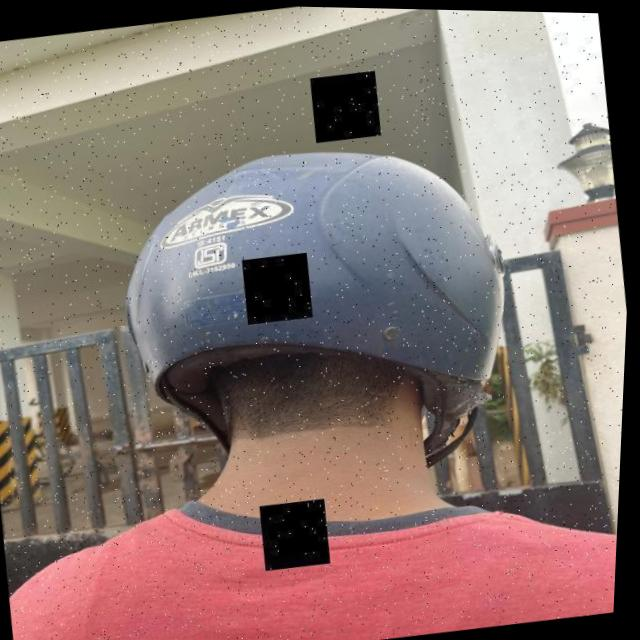helmet: (106, 122, 540, 512)
